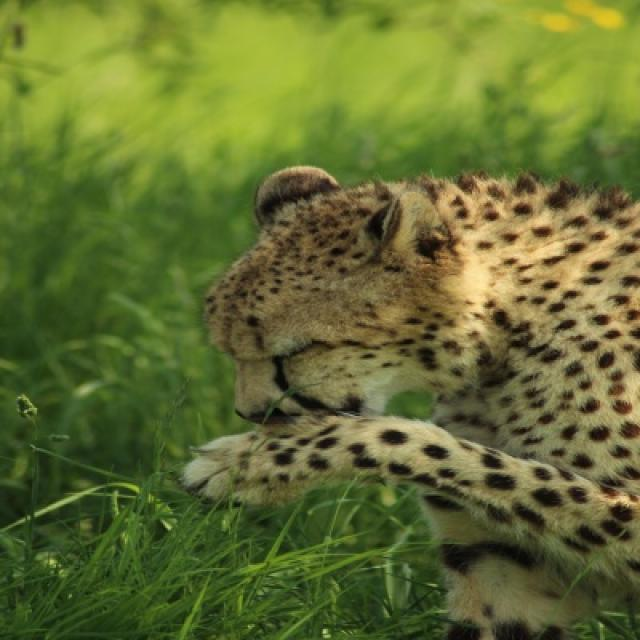Cheetah: (182, 168, 638, 638)
